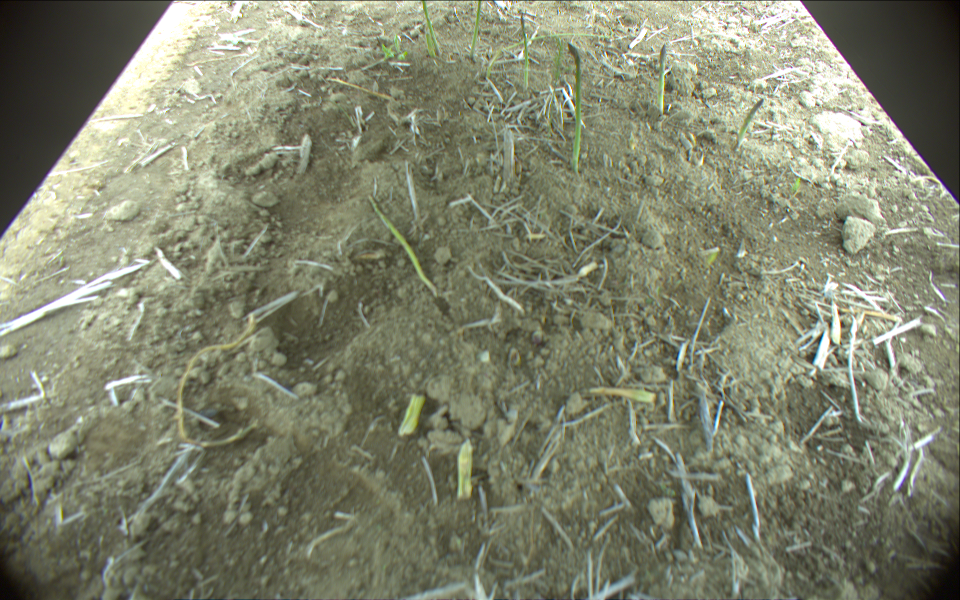aspa: (362, 191, 437, 295), (563, 43, 585, 176), (731, 99, 765, 153), (399, 391, 426, 438), (456, 442, 476, 502), (420, 1, 440, 53), (519, 11, 529, 89), (470, 1, 481, 56), (659, 47, 666, 113)
